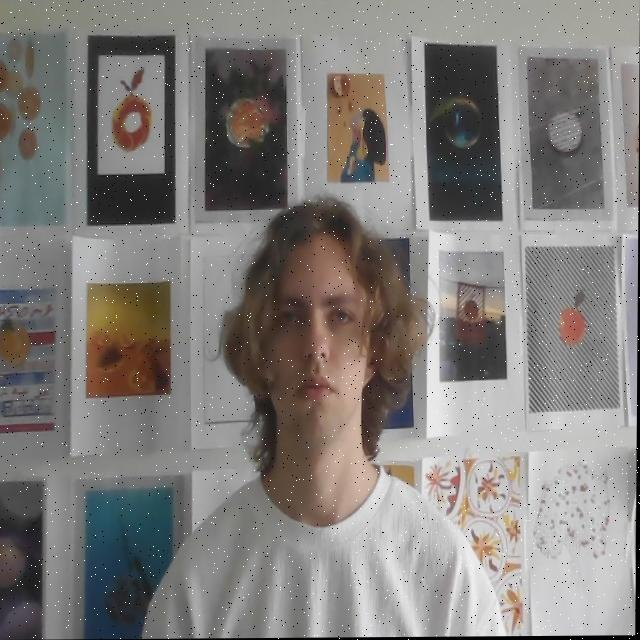opened_eye: (324, 307, 359, 330), (275, 306, 303, 333)
